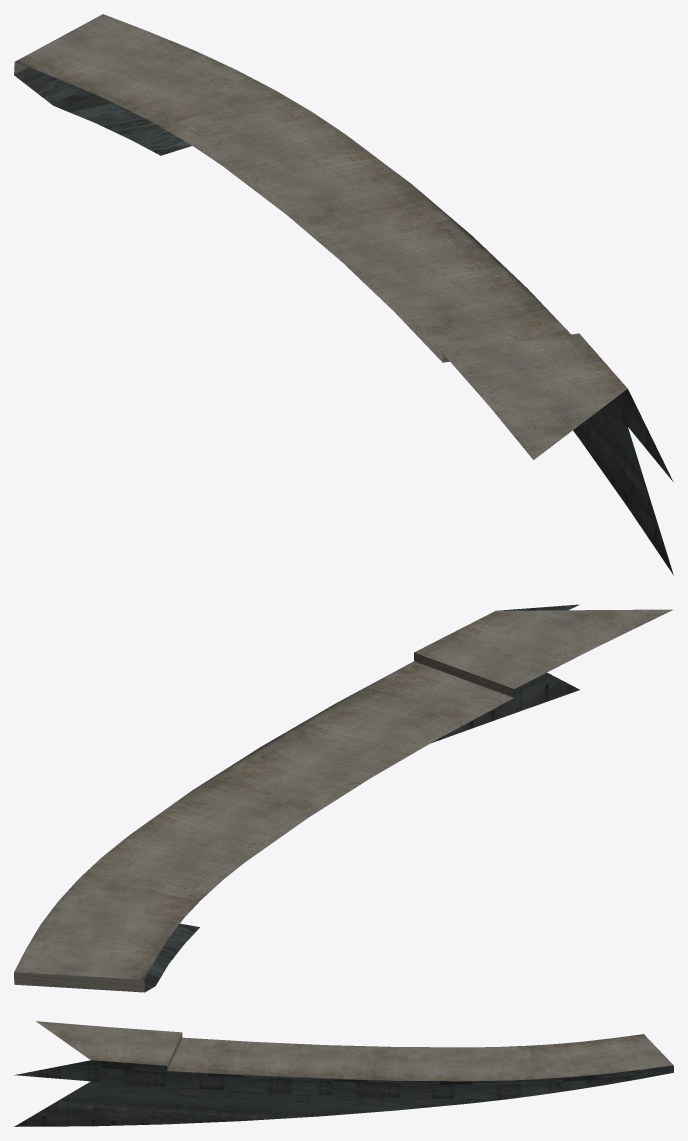
File: tunnel.glb
3 renders of one model, top to bottom at view 1: azimuth 30°, elevation 25°; view 2: azimuth 150°, elevation 25°; view 3: azimuth 270°, elevation 25°, orthographic. The views are drawn at different scales.
Parts seen in each view (by area): view 1: TRN_TC_CITYCENTERTUNNEL_CHOP_T23_R0; view 2: TRN_TC_CITYCENTERTUNNEL_CHOP_T23_R0; view 3: TRN_TC_CITYCENTERTUNNEL_CHOP_T23_R0.
Part boxes in pixels (<box>): TRN_TC_CITYCENTERTUNNEL_CHOP_T23_R0: <box>14,14,673,575</box>; TRN_TC_CITYCENTERTUNNEL_CHOP_T23_R0: <box>14,604,672,992</box>; TRN_TC_CITYCENTERTUNNEL_CHOP_T23_R0: <box>14,1021,673,1126</box>.
Size of the model in its own units: 16.17 by 10.01 by 82.14.
Materials: 2 (2 with a texture image).
